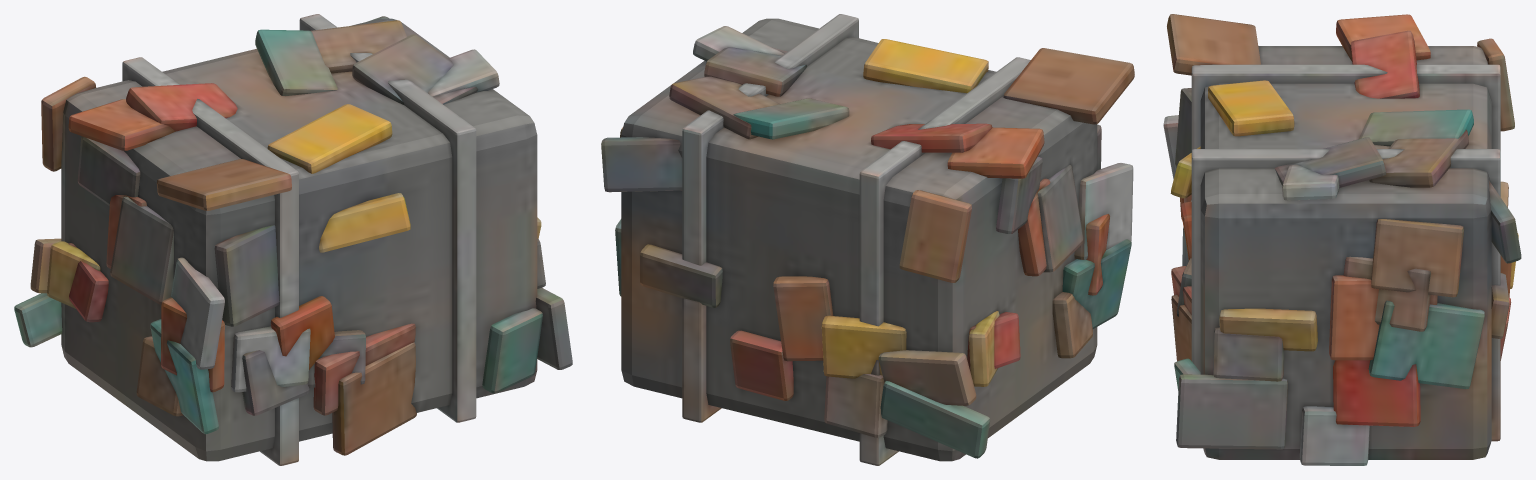
File: bale_steel.glb
The picture shows the model from 3 angles, left to right: view 1: azimuth 30°, elevation 25°; view 2: azimuth 150°, elevation 25°; view 3: azimuth 270°, elevation 25°; orthographic projection. The views are drawn at different scales.
Parts seen in each view (by area): view 1: BaleSteel_Mesh; view 2: BaleSteel_Mesh; view 3: BaleSteel_Mesh.
Boxes of the visible parts, bbox=[...] form: BaleSteel_Mesh: bbox=[14, 14, 572, 465]; BaleSteel_Mesh: bbox=[601, 14, 1134, 465]; BaleSteel_Mesh: bbox=[1163, 14, 1521, 465].
Size of the model in its own units: 0.4947 by 0.3637 by 0.394.
Materials: 1 (1 with a texture image).
